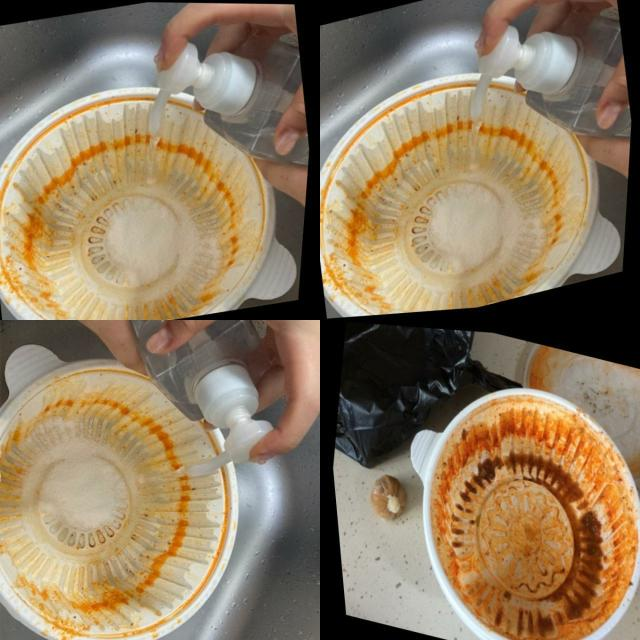HDPE Plastic: (134, 321, 272, 475), (471, 16, 630, 138), (149, 41, 305, 162)
Single-layer Plastic: (336, 322, 518, 467)
